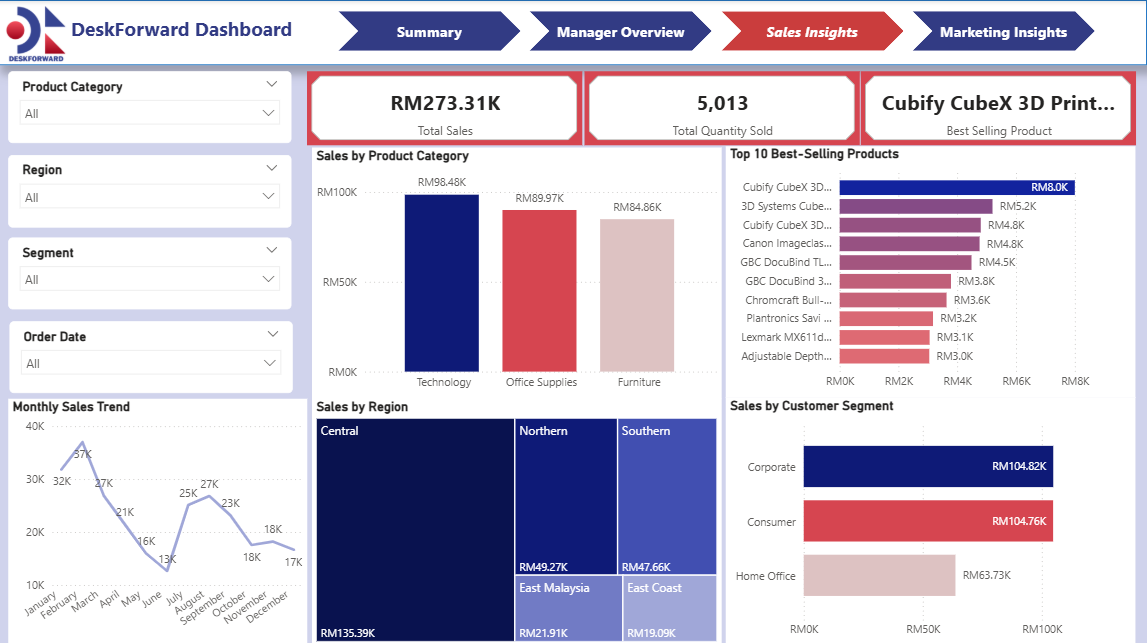

This screenshot's page, from the dashboard's own definition file:
{"tool":"powerbi","page":{"name":"Sales Insights","canvas":[1280,720],"ordinal":2},"visuals":[{"type":"shape","box":[0,0,1280,72.6],"z":0},{"type":"textbox","box":[68.9,12.3,272,49.2],"z":1000},{"type":"image","box":[0,0,87.7,75.1],"z":2000},{"type":"slicer","fields":{"Values":["Customer Data.Region"]},"box":[13,172.5,315,80.7],"z":3000},{"type":"slicer","fields":{"Values":["Customer Data.Segment"]},"box":[13,264,315,80],"z":4000},{"type":"slicer","fields":{"Values":["Product Data.Product Category"]},"box":[13,79,315,80],"z":5000},{"type":"cardVisual","fields":{"Data":["Sum(Order Data.Sales)"]},"box":[345,79.2,306,82.5],"z":6000},{"type":"cardVisual","fields":{"Data":["Order Data.Total Quantity"]},"box":[653.5,79,306,82.1],"z":7000},{"type":"cardVisual","fields":{"Data":["Order Data.Best Selling Product"]},"box":[962,79,306.1,82.1],"z":8000},{"type":"clusteredColumnChart","title":"Sales by Product Category","fields":{"Category":["Product Data.Product Category"],"Y":["Sum(Order Data.Sales)"]},"box":[350.6,164.2,456.3,279.7],"z":9000},{"type":"clusteredBarChart","title":"Top 10 Best-Selling Products","fields":{"Y":["Sum(Order Data.Sales)"],"Category":["Product Data.Product Name"]},"box":[811.1,162.8,456.3,279.7],"z":10000},{"type":"treemap","title":"Sales by Region","fields":{"Group":["Customer.Region"],"Values":["Order Data.Total Sales"]},"box":[350.6,443.8,456,275.5],"z":11000},{"type":"clusteredBarChart","title":"Sales by Customer Segment","fields":{"Category":["Customer.Segment"],"Y":["Sum(Order Data.Sales)"]},"box":[811,442.4,456,276.9],"z":12000},{"type":"pageNavigator","box":[380.3,12.3,844.3,44.3],"z":13000},{"type":"lineChart","title":"Monthly Sales Trend","fields":{"Category":["Order Data.Order Date.Variation.Date Hierarchy.Month"],"Y":["Sum(Order Data.Sales)"]},"box":[12.5,443.8,332.5,275.5],"z":14000},{"type":"slicer","fields":{"Values":["Order Data.Order Date.Variation.Date Hierarchy.Month"]},"box":[13.9,357,315,80],"z":15000}]}

Visuals, with their boxes in screenshot pixels (x1, y1, x2, y2), scaled from the page's 1280x720 canvas onto the 1147x643 screenshot:
shape: bbox=[0, 0, 1146, 65]
textbox: bbox=[62, 11, 305, 55]
image: bbox=[0, 0, 79, 67]
slicer - Customer Data.Region: bbox=[12, 154, 294, 226]
slicer - Customer Data.Segment: bbox=[12, 236, 294, 307]
slicer - Product Data.Product Category: bbox=[12, 71, 294, 142]
cardVisual - Sum(Order Data.Sales): bbox=[309, 71, 583, 144]
cardVisual - Order Data.Total Quantity: bbox=[586, 71, 860, 144]
cardVisual - Order Data.Best Selling Product: bbox=[862, 71, 1136, 144]
"Sales by Product Category" clusteredColumnChart: bbox=[314, 147, 723, 396]
"Top 10 Best-Selling Products" clusteredBarChart: bbox=[727, 145, 1136, 395]
"Sales by Region" treemap: bbox=[314, 396, 723, 642]
"Sales by Customer Segment" clusteredBarChart: bbox=[727, 395, 1135, 642]
pageNavigator: bbox=[341, 11, 1097, 51]
"Monthly Sales Trend" lineChart: bbox=[11, 396, 309, 642]
slicer - Order Data.Order Date.Variation.Date Hierarchy.Month: bbox=[12, 319, 295, 390]
